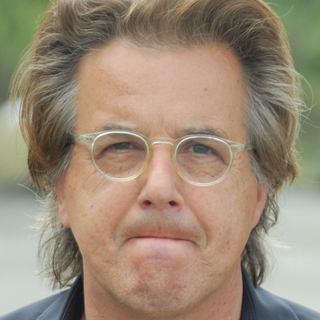eye: (175, 139, 224, 163), (97, 134, 145, 158)
